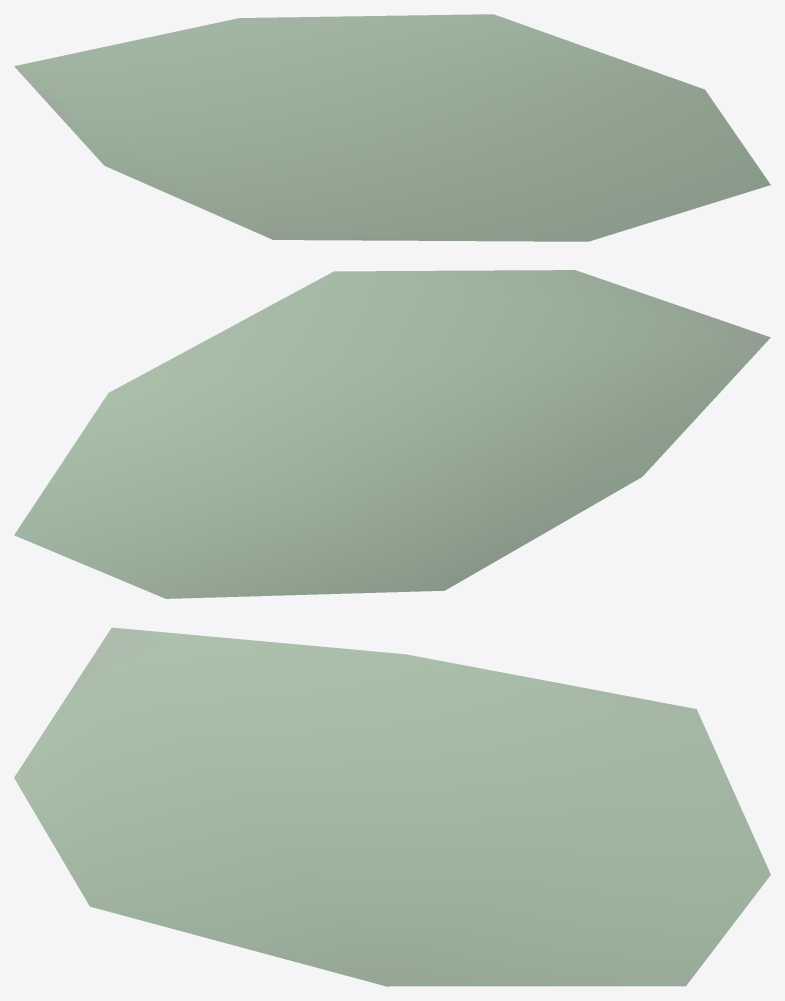
Rendered from TROLLHOLE02_HOLECAP100.fbx.
3 views of the same model, one above another, from view 1: azimuth 30°, elevation 25°; view 2: azimuth 150°, elevation 25°; view 3: azimuth 270°, elevation 25° (orthographic). The views are drawn at different scales.
Parts seen in each view (by area): view 1: TROLLHOLE02_HOLECAP100; view 2: TROLLHOLE02_HOLECAP100; view 3: TROLLHOLE02_HOLECAP100.
Part boxes in pixels (box(x1,y1,x2,y2)): TROLLHOLE02_HOLECAP100: box(14, 14, 770, 241); TROLLHOLE02_HOLECAP100: box(14, 270, 770, 598); TROLLHOLE02_HOLECAP100: box(14, 627, 770, 986).
Size of the model in its own units: 23992 by 4729 by 27938.
1 material, 1 textured.
